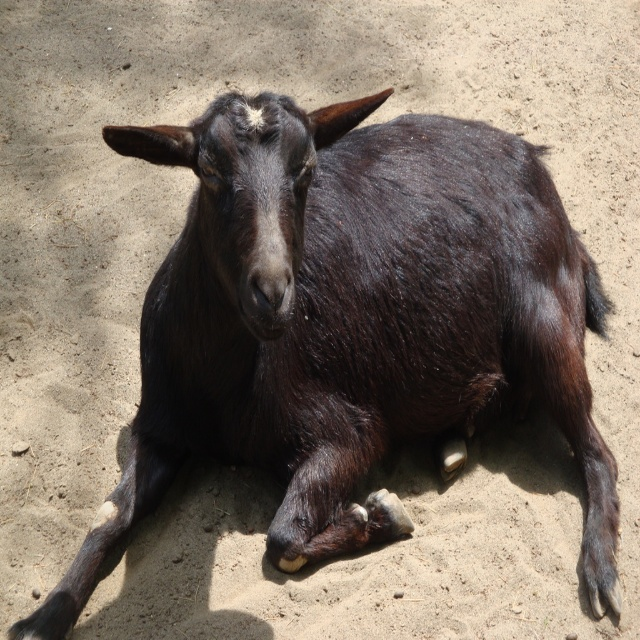Goat: (6, 87, 622, 639)
